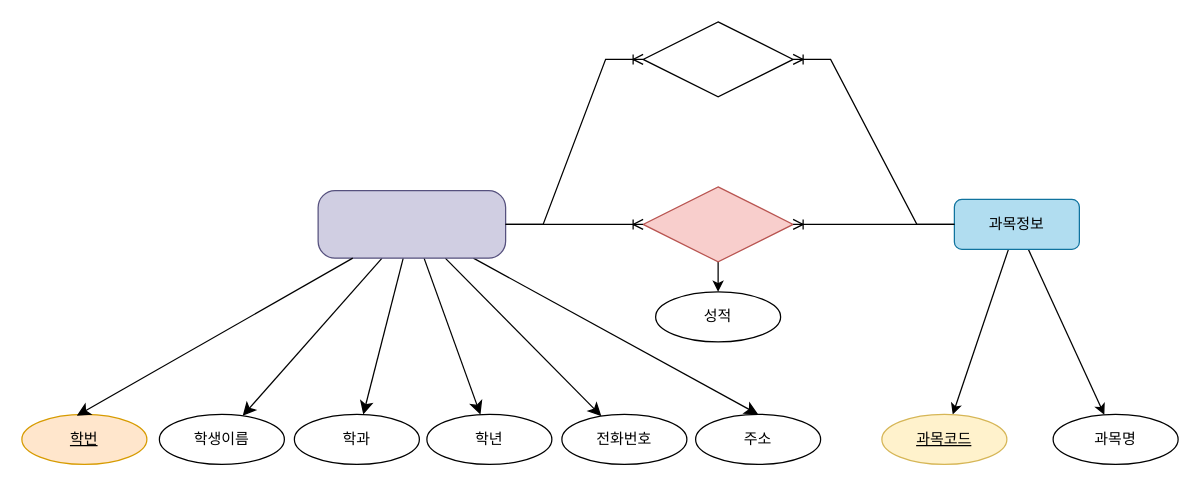
The diagram is 1200 pixels wide and 486 high, and some of its shapes have lost their labels. The shapes that lost their labels are listed below. From the top down, each one's centre as x and y in pixels, then its label:
(717,59): 수강신청
(411,223): 학생정보
(717,224): 학생성적
